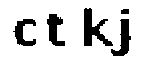c: (10, 13, 39, 49)
j: (113, 6, 136, 59)
k: (78, 5, 114, 48)
t: (45, 9, 67, 52)
